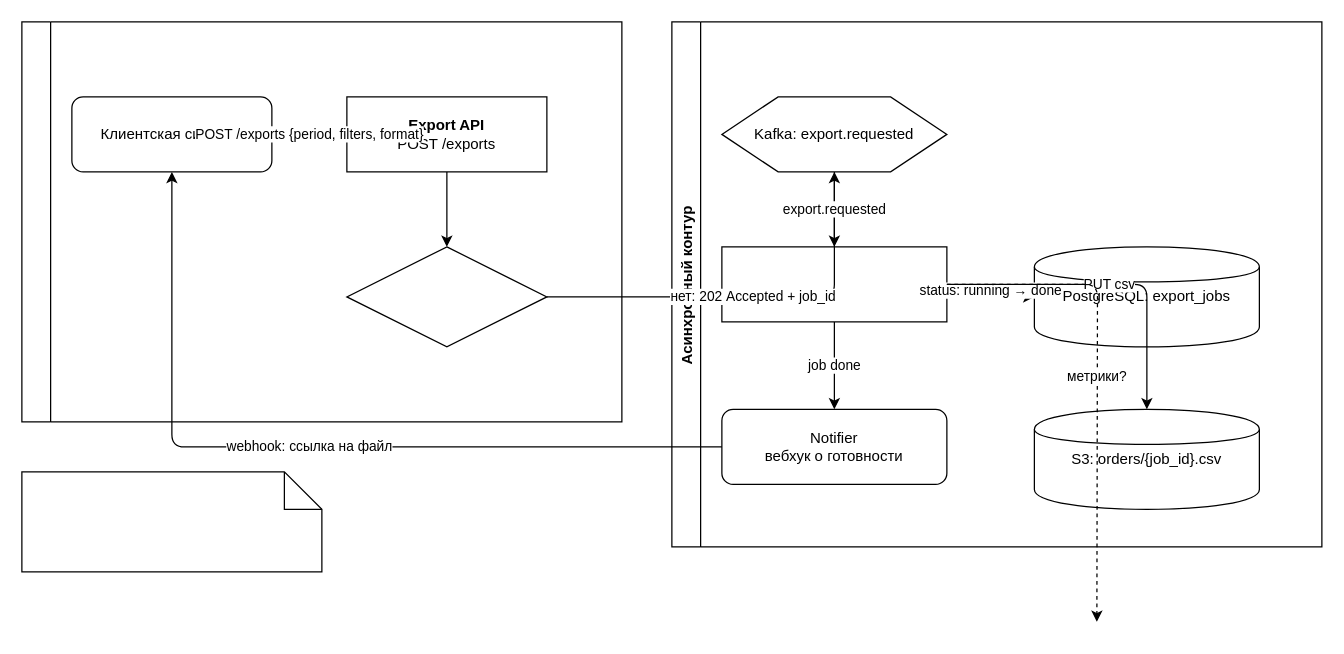
This 1344x654 diagram has some shape labels left out. Here are the shapes that lost their labels. From the top down, the box of each, then its label:
(21, 21, 622, 422): Синхронный контур
(346, 246, 547, 347): Лимит активных выгрузок исчерпан?
(721, 246, 947, 322): Export Worker
(21, 471, 322, 572): Файлы в S3 живут 7 суток, дальше удаляются lifecycle-правилом
